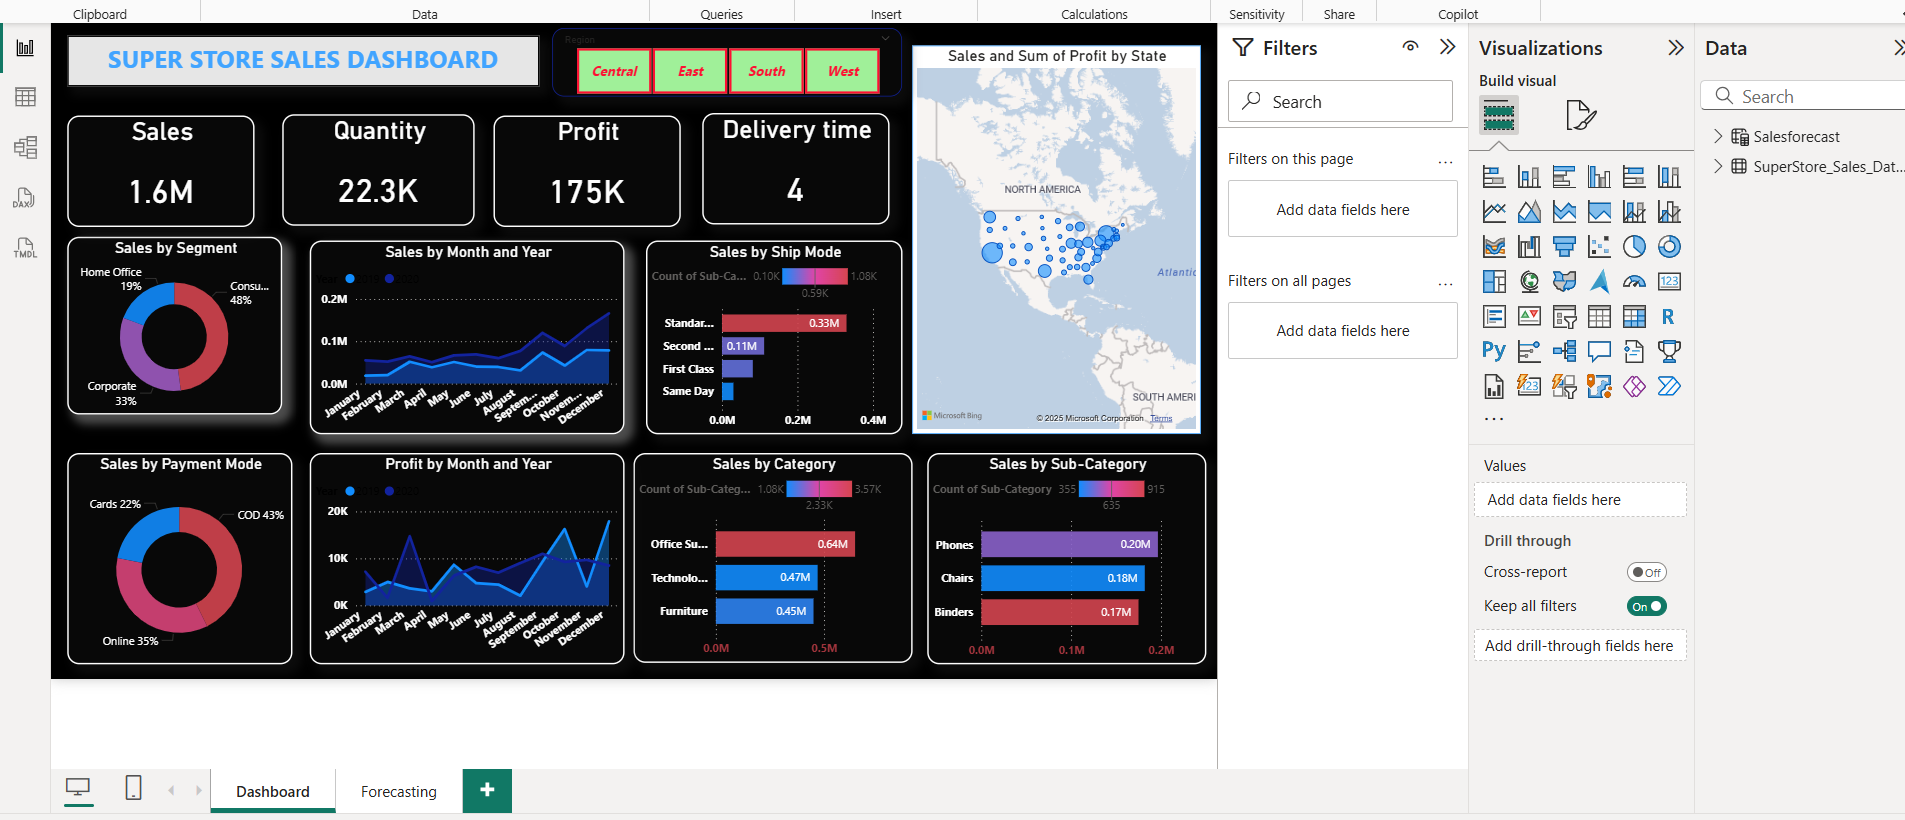

What the dashboard file says about the page in this screenshot:
{"tool":"powerbi","page":{"name":"Dashboard","canvas":[1280,720],"ordinal":0},"visuals":[{"type":"clusteredBarChart","title":"Sales by Category","fields":{"Category":["SuperStore_Sales_Dataset.Category"],"Y":["Sum(SuperStore_Sales_Dataset.Sales)"]},"box":[639.5,472,306,230.5],"z":0},{"type":"clusteredBarChart","title":"Sales by Sub-Category","fields":{"Category":["SuperStore_Sales_Dataset.Sub-Category"],"Y":["Sum(SuperStore_Sales_Dataset.Sales)"]},"box":[961.9,472,306,231.9],"z":1000},{"type":"clusteredBarChart","title":"Sales by Ship Mode","fields":{"Category":["SuperStore_Sales_Dataset.Ship Mode"],"Y":["Sum(SuperStore_Sales_Dataset.Sales)"]},"box":[653.2,238.8,281.3,212.7],"z":2000},{"type":"areaChart","title":"Sales by Month and Year","fields":{"Y":["Sum(SuperStore_Sales_Dataset.Sales)"],"Category":["SuperStore_Sales_Dataset.Order Date.Variation.Date Hierarchy.Month","SuperStore_Sales_Dataset.Order Date.Variation.Date Hierarchy.Day"],"Series":["SuperStore_Sales_Dataset.Order Date.Variation.Date Hierarchy.Year"]},"box":[284,238.8,345.8,212.7],"z":3000},{"type":"areaChart","title":"Profit by Month and Year","fields":{"Category":["SuperStore_Sales_Dataset.Order Date.Variation.Date Hierarchy.Month","SuperStore_Sales_Dataset.Order Date.Variation.Date Hierarchy.Day"],"Series":["SuperStore_Sales_Dataset.Order Date.Variation.Date Hierarchy.Year"],"Y":["Sum(SuperStore_Sales_Dataset.Profit)"]},"box":[284,472,345.8,231.9],"z":4000},{"type":"map","title":"Sales and Sum of Profit by State","fields":{"Category":["SuperStore_Sales_Dataset.State"],"Size":["Sum(SuperStore_Sales_Dataset.Sales)"]},"box":[945.5,24.7,317,426.8],"z":5000},{"type":"donutChart","title":"Sales by Segment","fields":{"Category":["SuperStore_Sales_Dataset.Segment"],"Y":["Sum(SuperStore_Sales_Dataset.Sales)"]},"box":[17.8,234.6,236,194.9],"z":6000},{"type":"donutChart","title":"Sales by Payment Mode","fields":{"Category":["SuperStore_Sales_Dataset.Payment Mode"],"Y":["Sum(SuperStore_Sales_Dataset.Sales)"]},"box":[17.8,472,247,231.9],"z":7000},{"type":"slicer","fields":{"Values":["SuperStore_Sales_Dataset.Region"]},"box":[550.3,5.5,384.2,75.5],"z":8000},{"type":"textbox","box":[17.8,13.7,518.7,56.3],"z":9000},{"type":"card","title":"Sales","fields":{"Values":["Sum(SuperStore_Sales_Dataset.Sales)"]},"box":[17.8,101.5,205.8,122.1],"z":10000},{"type":"card","title":"Quantity","fields":{"Values":["Sum(SuperStore_Sales_Dataset.Quantity)"]},"box":[253.9,100.2,211.3,122.1],"z":11000},{"type":"card","title":"Profit","fields":{"Values":["Sum(SuperStore_Sales_Dataset.Profit)"]},"box":[485.8,101.5,205.8,122.1],"z":12000},{"type":"card","title":"Delivery time","fields":{"Values":["Avg(SuperStore_Sales_Dataset.Avg Delivery)"]},"box":[714.9,98.8,205.8,122.1],"z":13000}]}

Visuals, with their boxes on the page's 1280x720 design canvas (x1, y1, x2, y2). These are canvas units, not pixel positions in the 1905x820 screenshot, which may show the page scaled, cropped or inside an application window:
"Sales by Category" clusteredBarChart: crop(640, 472, 946, 702)
"Sales by Sub-Category" clusteredBarChart: crop(962, 472, 1268, 704)
"Sales by Ship Mode" clusteredBarChart: crop(653, 239, 934, 452)
"Sales by Month and Year" areaChart: crop(284, 239, 630, 452)
"Profit by Month and Year" areaChart: crop(284, 472, 630, 704)
"Sales and Sum of Profit by State" map: crop(946, 25, 1262, 452)
"Sales by Segment" donutChart: crop(18, 235, 254, 430)
"Sales by Payment Mode" donutChart: crop(18, 472, 265, 704)
slicer - SuperStore_Sales_Dataset.Region: crop(550, 6, 934, 81)
textbox: crop(18, 14, 536, 70)
"Sales" card: crop(18, 102, 224, 224)
"Quantity" card: crop(254, 100, 465, 222)
"Profit" card: crop(486, 102, 692, 224)
"Delivery time" card: crop(715, 99, 921, 221)
